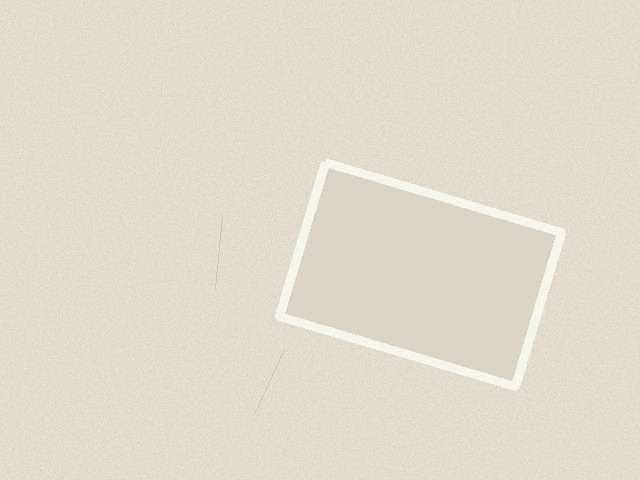parking_area: (279, 162, 561, 386)
